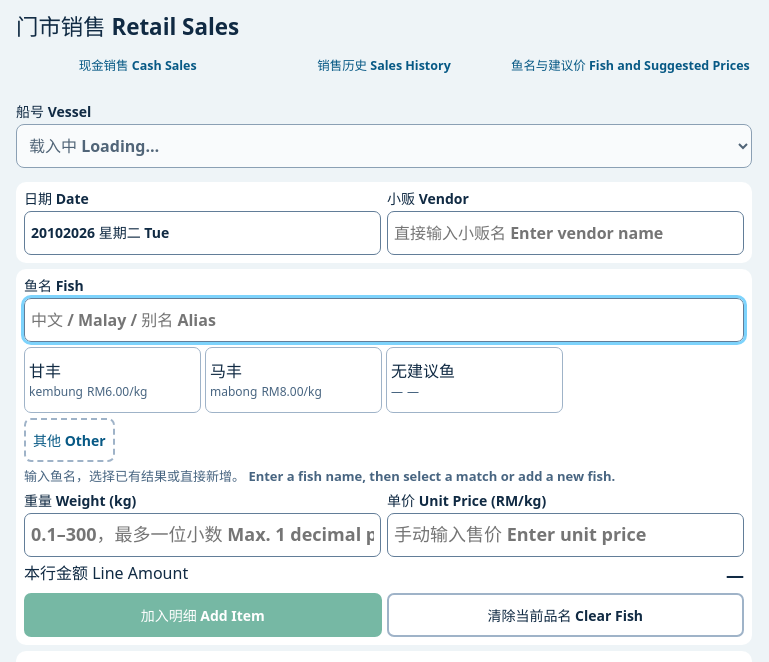
mobile retail checkout › shows Chinese, Malay and suggested price while typing and selects by keyboard without adding a line
Type "甘" into the dropdown labelled "鱼名 Fish" at [384, 320], box x1=24 y1=298 x2=744 y2=342
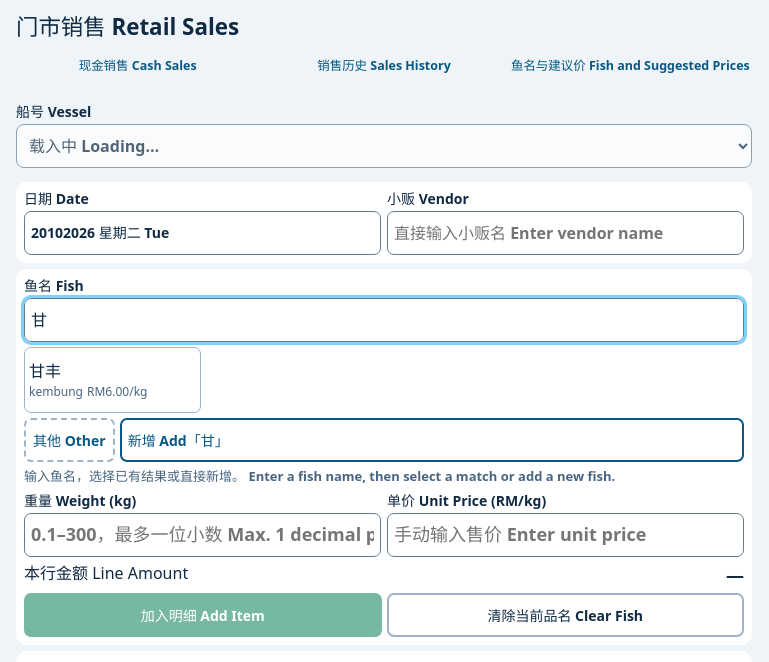
Check: the option "甘丰 kembung RM6.00/kg" is shown, box x1=24 y1=347 x2=201 y2=413
Check: the option "马丰" is gone
Press Enter in the dropdown labelled "鱼名 Fish", box x1=24 y1=298 x2=744 y2=342
Check: the field labelled "单价 Unit Price (RM/kg)" is empty, box x1=387 y1=513 x2=744 y2=557
Press ArrowDown in the dropdown labelled "鱼名 Fish", box x1=24 y1=298 x2=744 y2=342
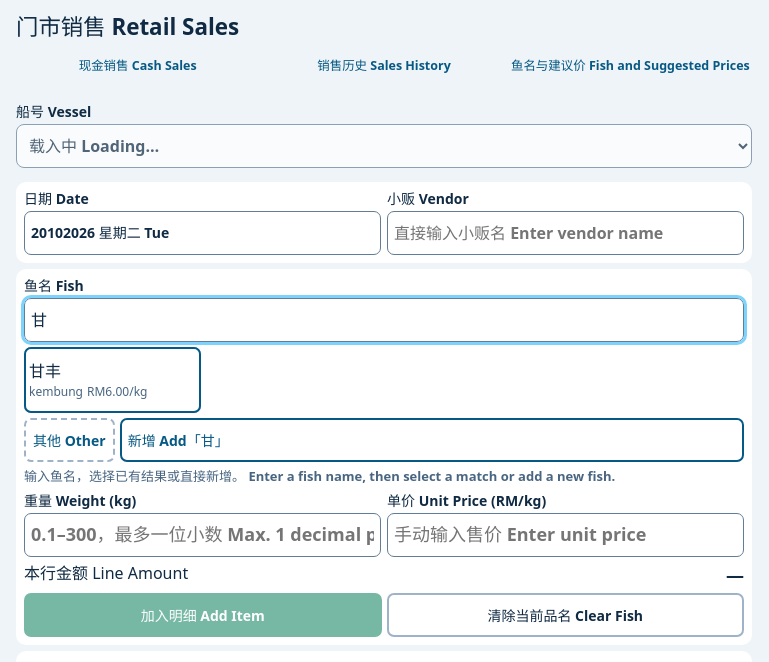
Press Enter in the dropdown labelled "鱼名 Fish", box x1=24 y1=298 x2=744 y2=342
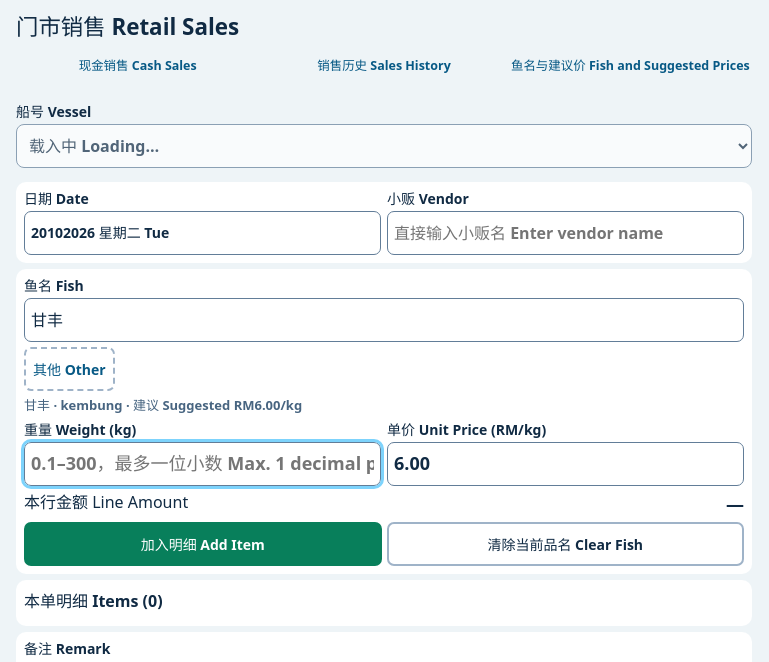
Check: the heading "本单明细 Items (0)" is shown, box x1=24 y1=590 x2=163 y2=612
Check: the field labelled "单价 Unit Price (RM/kg)" holds "6.00", box x1=387 y1=442 x2=744 y2=486
Replace the text in the dropdown labelled "鱼名 Fish" with "MABONG" at [384, 320], box x1=24 y1=298 x2=744 y2=342
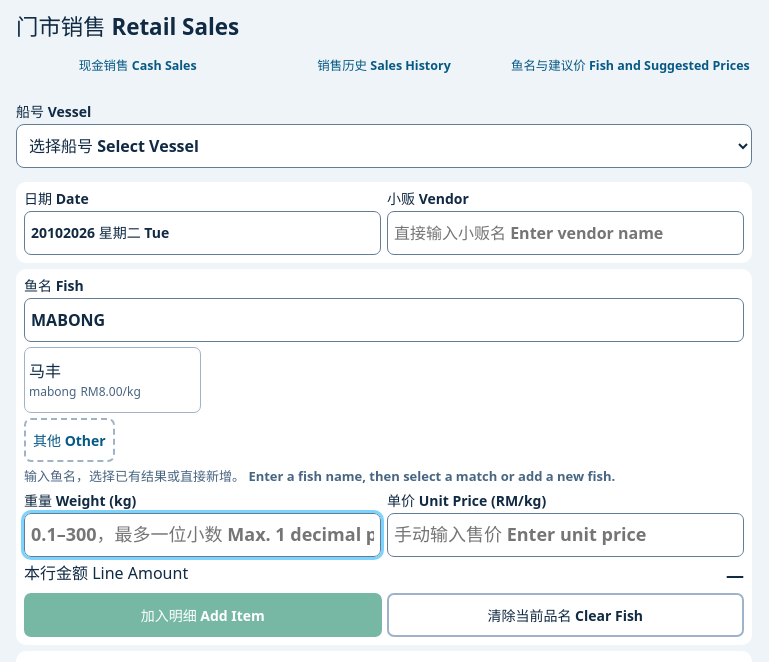
Check: the option "马丰 mabong RM8.00/kg" is shown, box x1=24 y1=347 x2=201 y2=413
Check: the field labelled "单价 Unit Price (RM/kg)" is empty, box x1=387 y1=513 x2=744 y2=557
Check: the button "加入明细 Add Item" is disabled, box x1=24 y1=594 x2=382 y2=638
